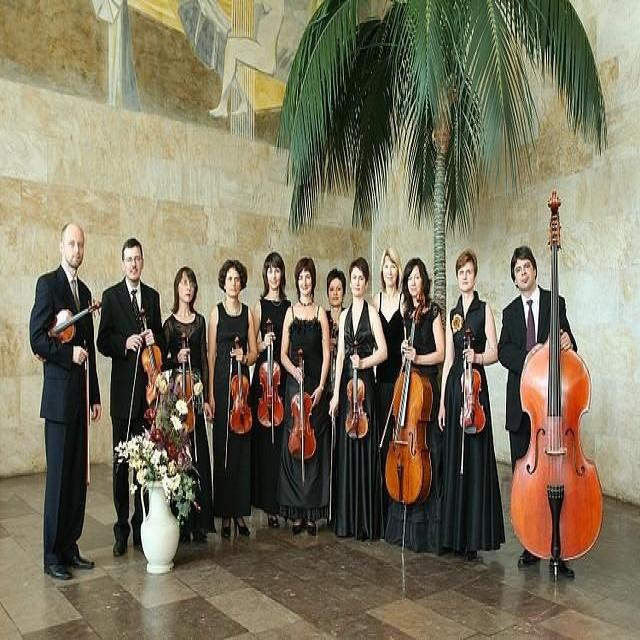cello: (382, 287, 438, 508)
violin: (34, 296, 103, 366), (288, 346, 316, 464), (256, 319, 285, 430), (137, 309, 167, 408), (345, 336, 371, 441), (460, 334, 486, 432), (228, 335, 253, 435), (176, 330, 198, 434)
